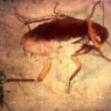cockroach: (22, 16, 109, 47)
